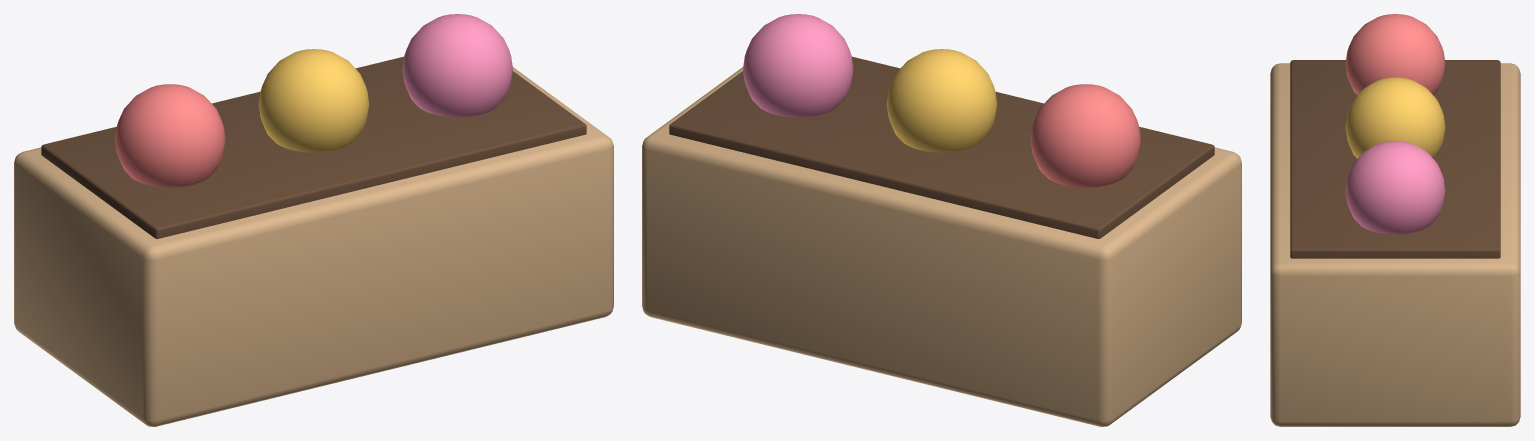
Rendered from planter.glb.
The picture shows the model from 3 angles, left to right: view 1: azimuth 30°, elevation 25°; view 2: azimuth 150°, elevation 25°; view 3: azimuth 270°, elevation 25°; orthographic projection. The views are drawn at different scales.
Parts seen in each view (by area): view 1: planter; view 2: planter; view 3: planter.
Boxes of the visible parts, x1=… form: planter: x1=14, y1=14, x2=613, y2=426; planter: x1=642, y1=14, x2=1241, y2=426; planter: x1=1270, y1=14, x2=1520, y2=426.
Bounding box in the file's own units: 0.98 × 0.54 × 0.5.
